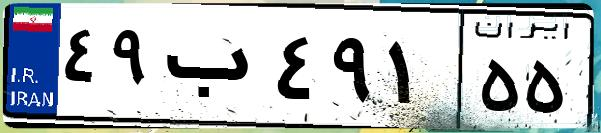1: (385, 28, 445, 110)
4: (270, 28, 330, 110), (57, 26, 110, 100)
5: (475, 38, 525, 113), (525, 38, 570, 115)
9: (330, 28, 385, 110), (110, 28, 158, 98)
ب: (158, 20, 270, 120)
